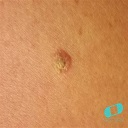Actinic: (51, 48, 74, 73)
